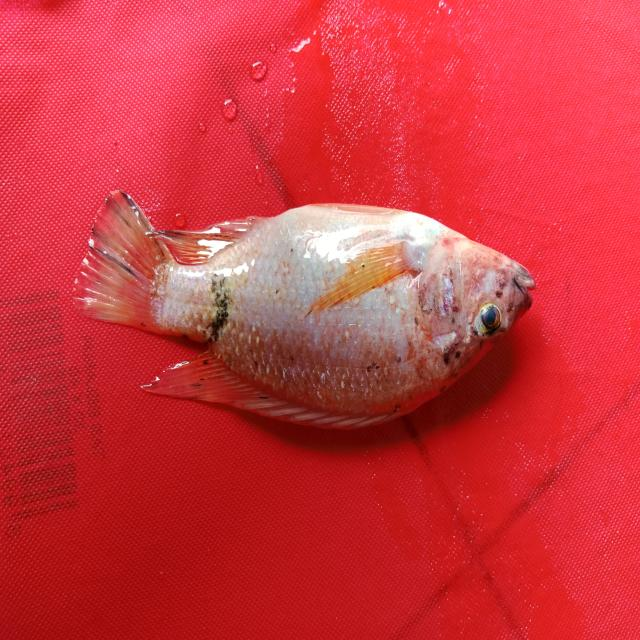ikan: (60, 166, 546, 460)
